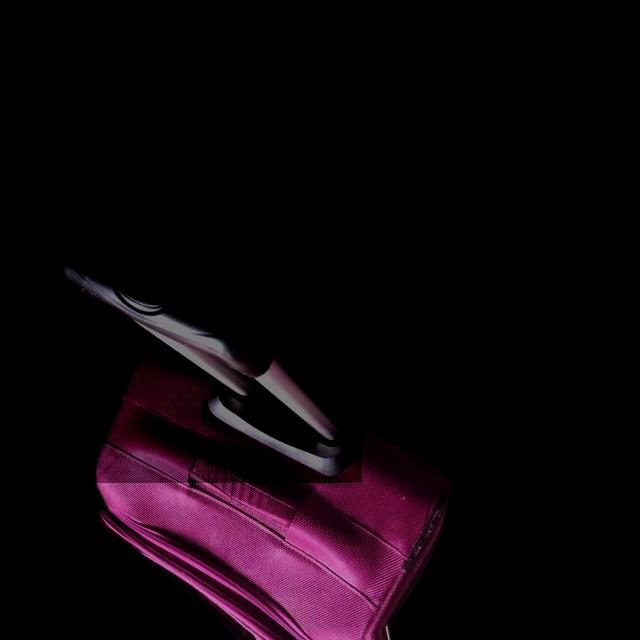Bag: (77, 241, 461, 638)
Handle: (63, 256, 364, 482)
